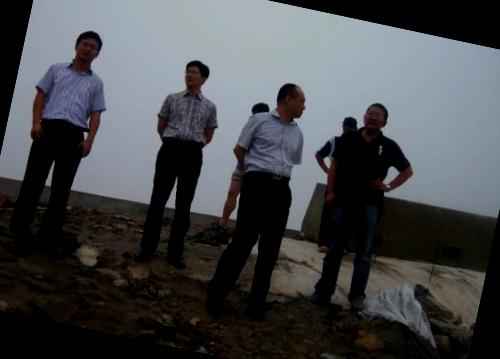no_helmet: (269, 77, 312, 124), (66, 24, 106, 69), (178, 56, 214, 95), (357, 97, 393, 136), (335, 112, 362, 142), (246, 98, 269, 124)
